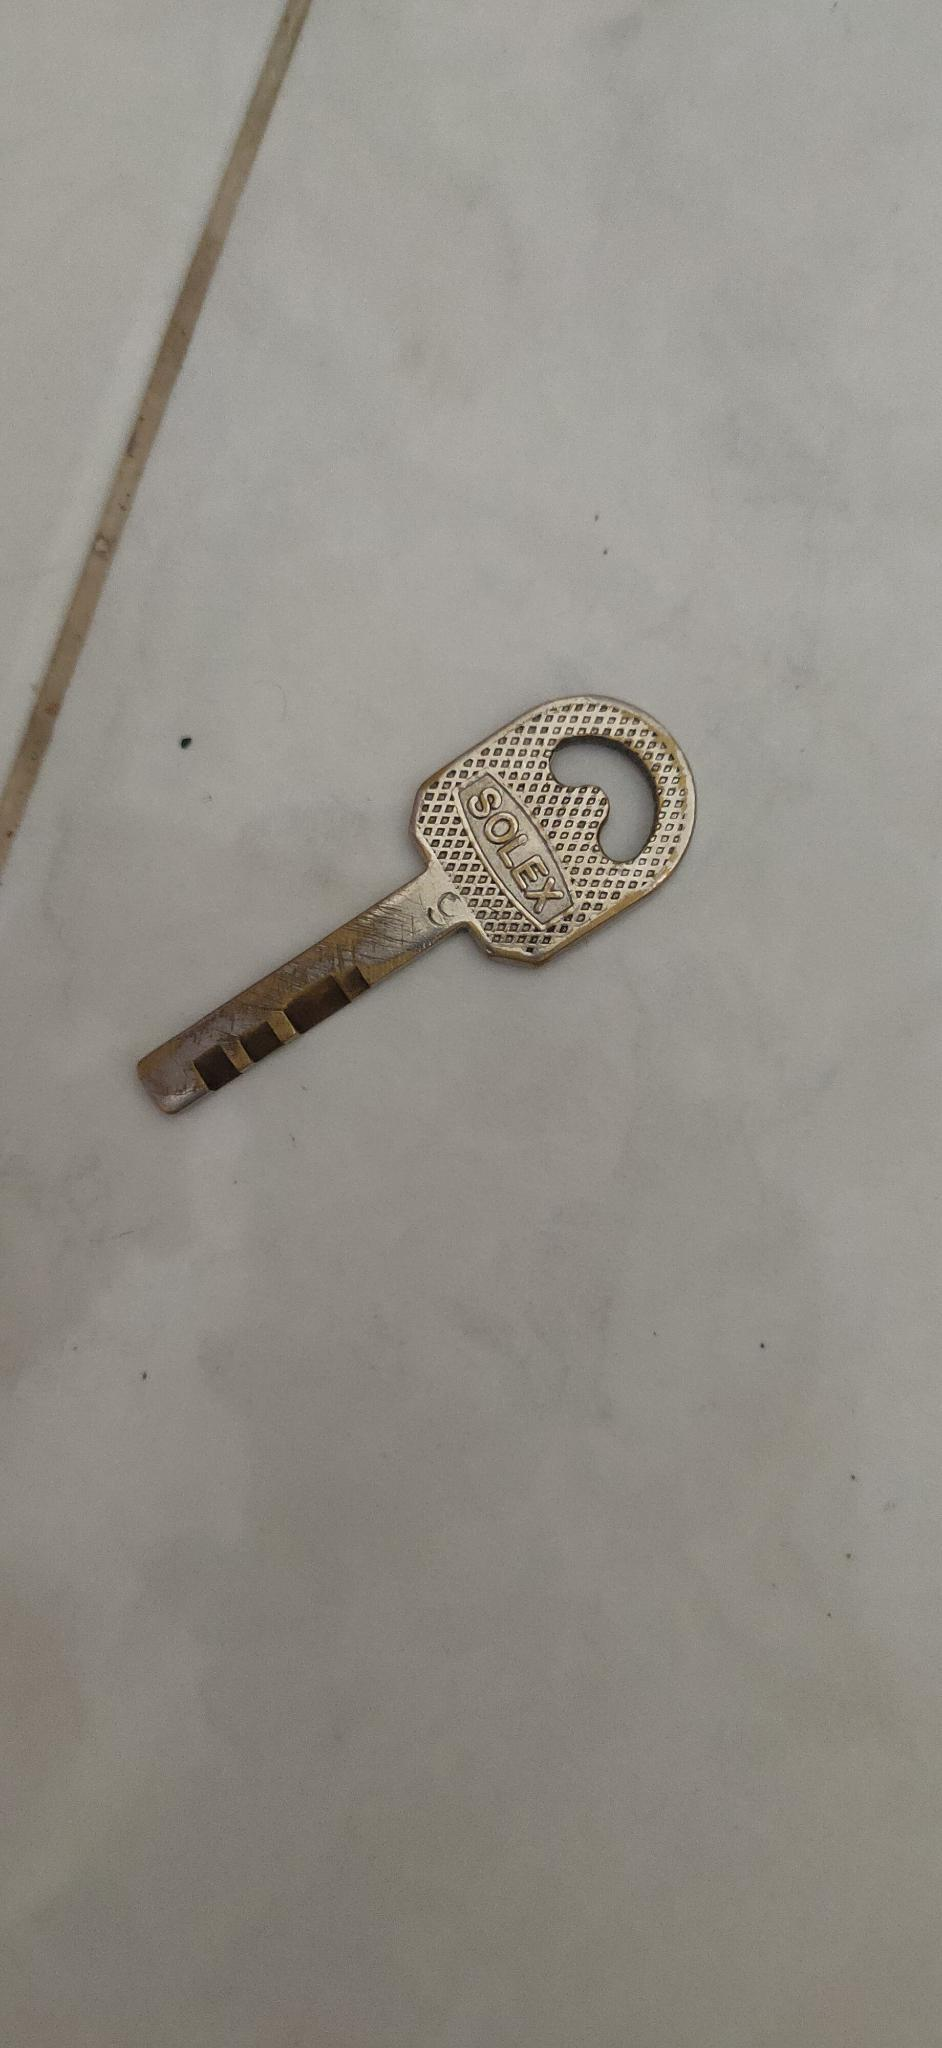keys: (140, 647, 712, 1208)
